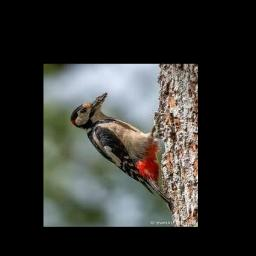Woodpecker: (71, 92, 174, 212)
